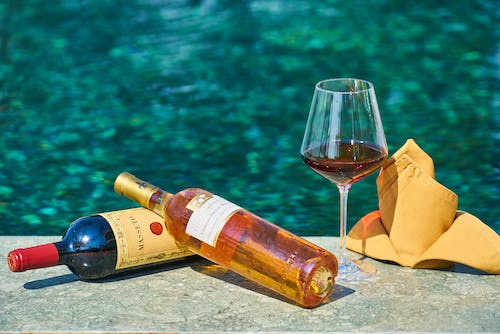alcohol: (113, 170, 339, 309), (299, 77, 389, 283), (6, 206, 204, 283)
